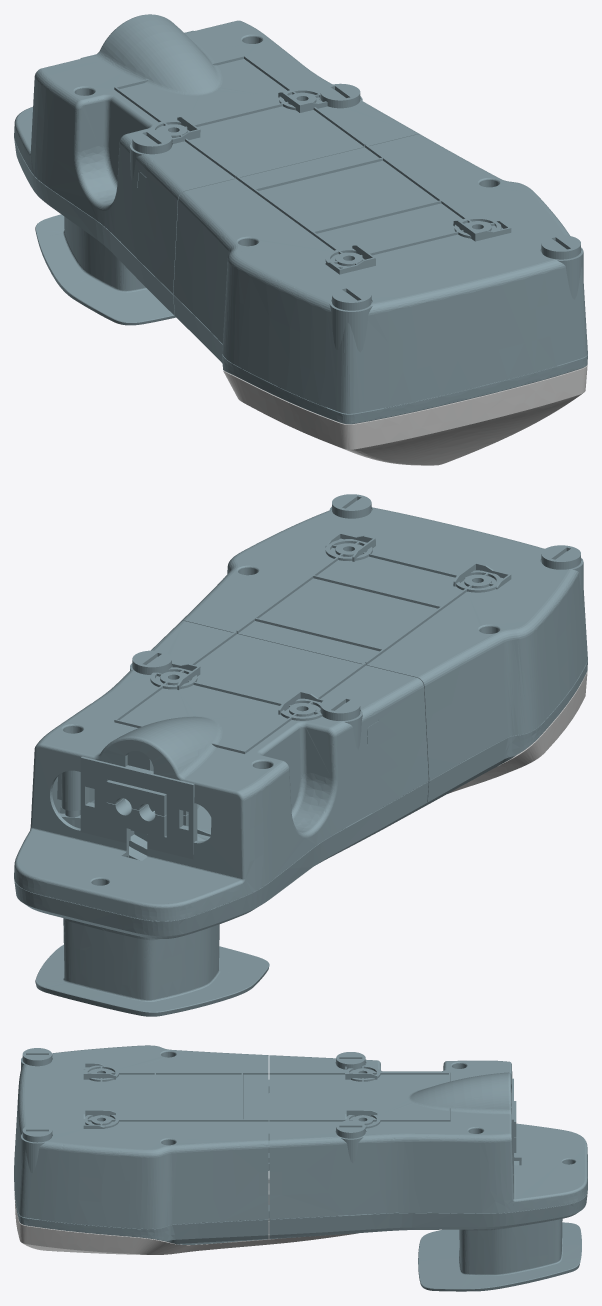
File: ChargeGrid-50-OFICIAL.glb
3 views of the same model, one above another, from view 1: azimuth 30°, elevation 25°; view 2: azimuth 150°, elevation 25°; view 3: azimuth 270°, elevation 25° (orthographic). The views are drawn at different scales.
Visible parts, largest first — view 1: 01-traseira-superior, 01-traseira-inferior, 05-tampa-frontal, 03-quadro-inferior, 03-quadro-superior, pino-casca-0, pino-casca-1, pino-casca-2, pino-casca-3; view 2: 01-traseira-inferior, 01-traseira-superior, 03-quadro-inferior, 03-quadro-superior, 05-tampa-frontal, 19-inserto-duplo-5mm-b, 19-inserto-duplo-5mm-a, pino-casca-2, pino-casca-1, pino-casca-0, pino-casca-3; view 3: 01-traseira-superior, 01-traseira-inferior, 03-quadro-inferior, 05-tampa-frontal, 03-quadro-superior, pino-casca-1, pino-casca-0, pino-casca-3, pino-casca-2.
Boxes of the visible parts, x1,y1,x2,y2 form: 01-traseira-superior: (173, 134, 587, 413); 01-traseira-inferior: (14, 14, 420, 293); 05-tampa-frontal: (223, 365, 587, 465); 03-quadro-inferior: (14, 139, 175, 325); 03-quadro-superior: (173, 295, 587, 424); pino-casca-0: (332, 286, 371, 310); pino-casca-1: (541, 235, 580, 259); pino-casca-2: (132, 129, 171, 154); pino-casca-3: (320, 83, 360, 108); 01-traseira-inferior: (14, 621, 428, 920); 01-traseira-superior: (180, 506, 587, 780); 03-quadro-inferior: (14, 781, 428, 1016); 03-quadro-superior: (420, 660, 587, 808); 05-tampa-frontal: (448, 671, 587, 793); 19-inserto-duplo-5mm-b: (106, 798, 188, 837); 19-inserto-duplo-5mm-a: (106, 780, 188, 816); pino-casca-2: (320, 696, 360, 720); pino-casca-1: (332, 494, 371, 518); pino-casca-0: (541, 545, 580, 569); pino-casca-3: (132, 650, 171, 674); 01-traseira-superior: (14, 1045, 268, 1228); 01-traseira-inferior: (269, 1055, 587, 1219); 03-quadro-inferior: (269, 1161, 587, 1291); 05-tampa-frontal: (14, 1178, 357, 1254); 03-quadro-superior: (14, 1180, 268, 1244); pino-casca-1: (22, 1124, 52, 1142); pino-casca-0: (22, 1048, 52, 1066); pino-casca-3: (336, 1120, 365, 1138); pino-casca-2: (336, 1052, 365, 1069).
Size of the model in its own units: 104 by 82.36 by 225.
